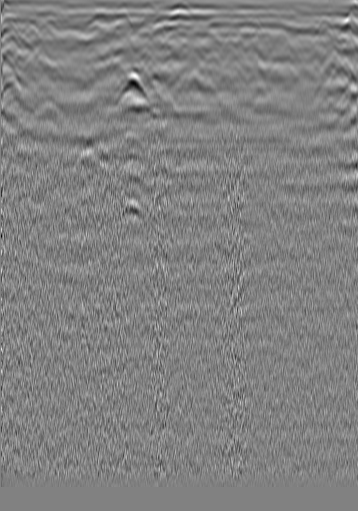가스: (114, 151, 146, 180)
상수: (295, 34, 315, 54)
오수: (22, 22, 42, 42)
우수: (168, 24, 188, 44)
